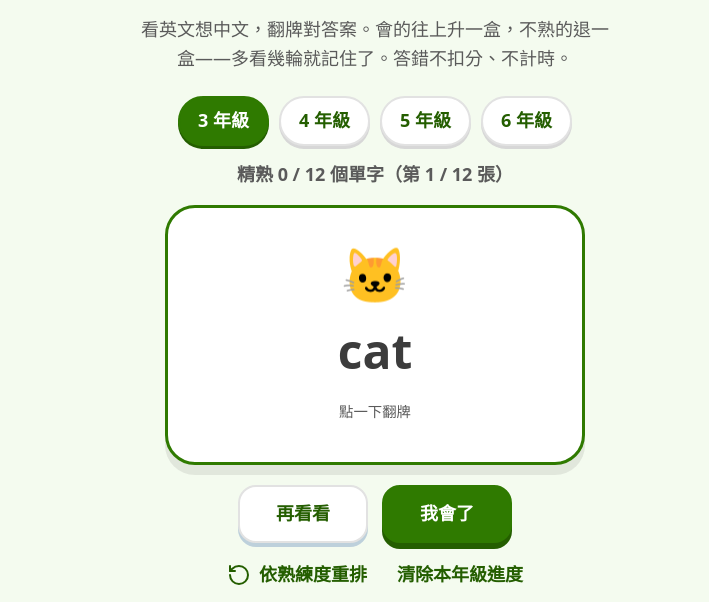
Test: FlashcardsPage › shows an english word, flips to reveal the chinese gloss
(page scrolled)
Click the button with aria-label "英文單字": (375, 336) [165,206,585,466]
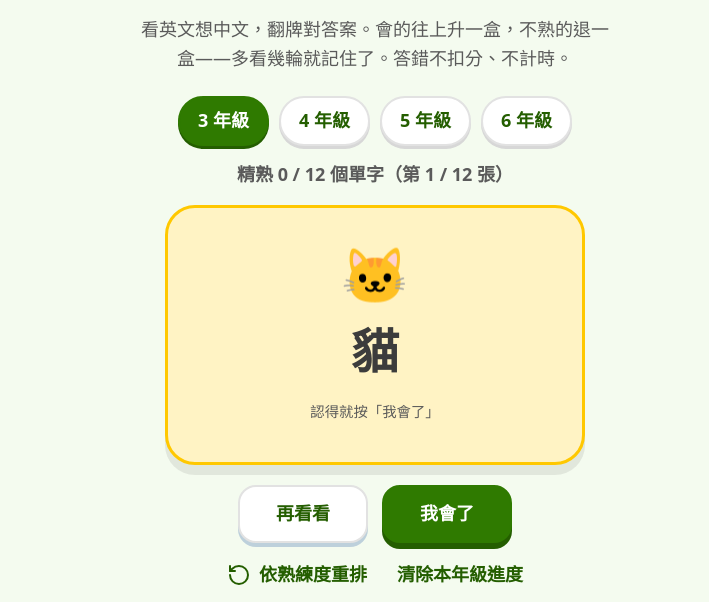
Expected: the button with aria-label "答案" is shown, [165,206,585,466]
